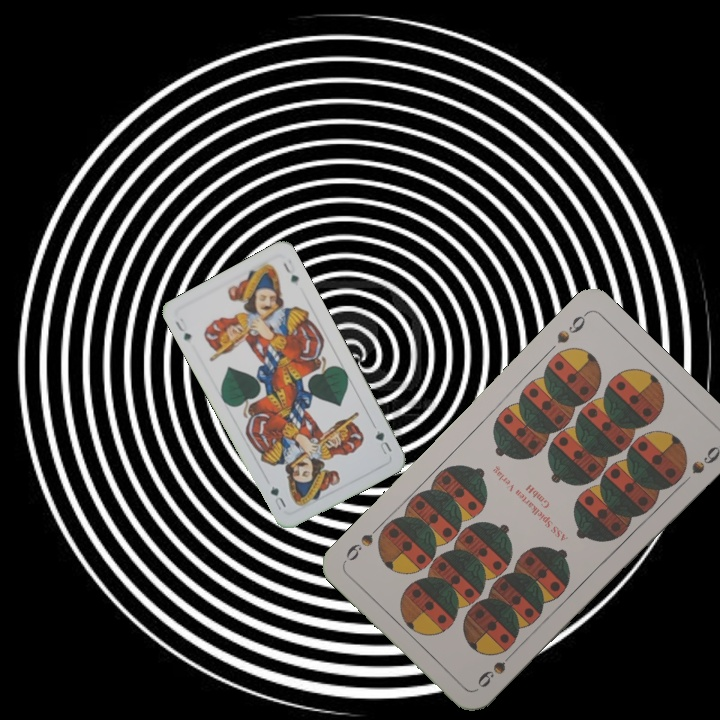GU: (371, 426, 394, 457), (171, 314, 194, 343)
S9: (473, 645, 520, 691), (553, 308, 590, 346)
